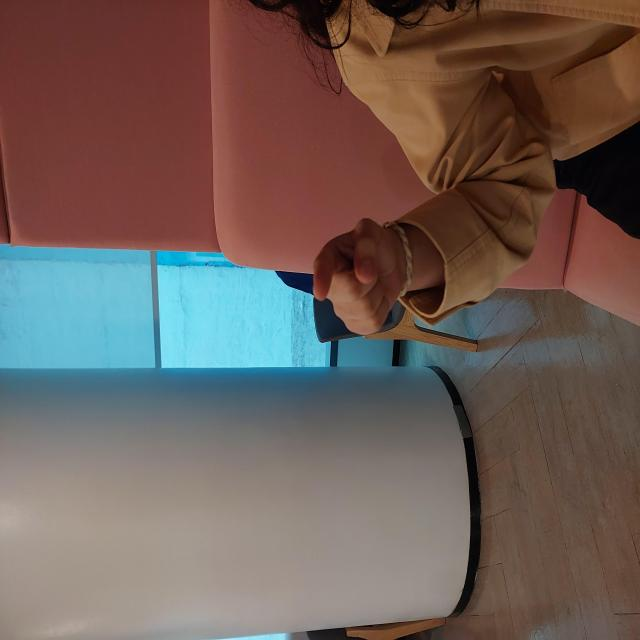Z: (297, 308, 420, 412)
